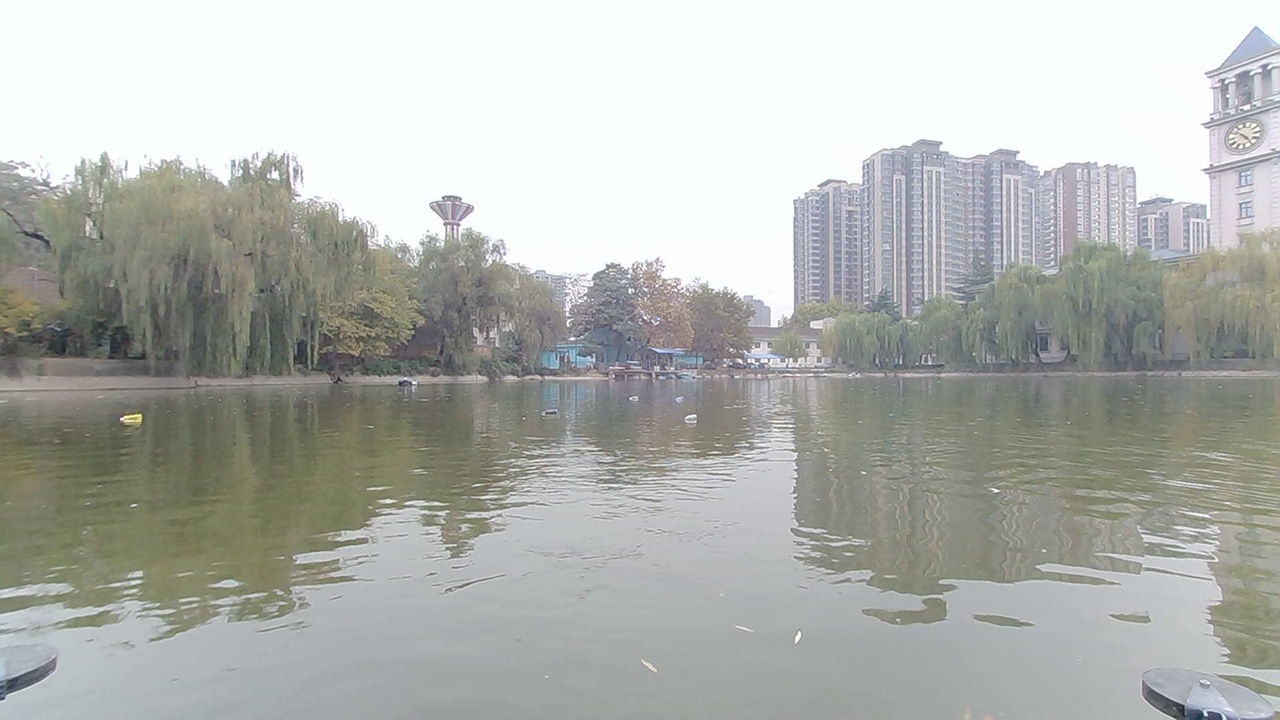bottle: (112, 408, 154, 432), (539, 398, 569, 420), (674, 403, 704, 424), (666, 383, 699, 400), (620, 388, 642, 407)
